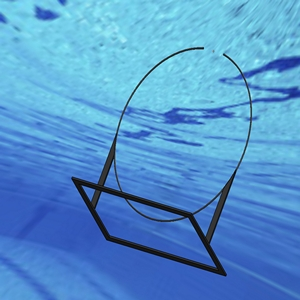circle: (70, 43, 253, 278)
